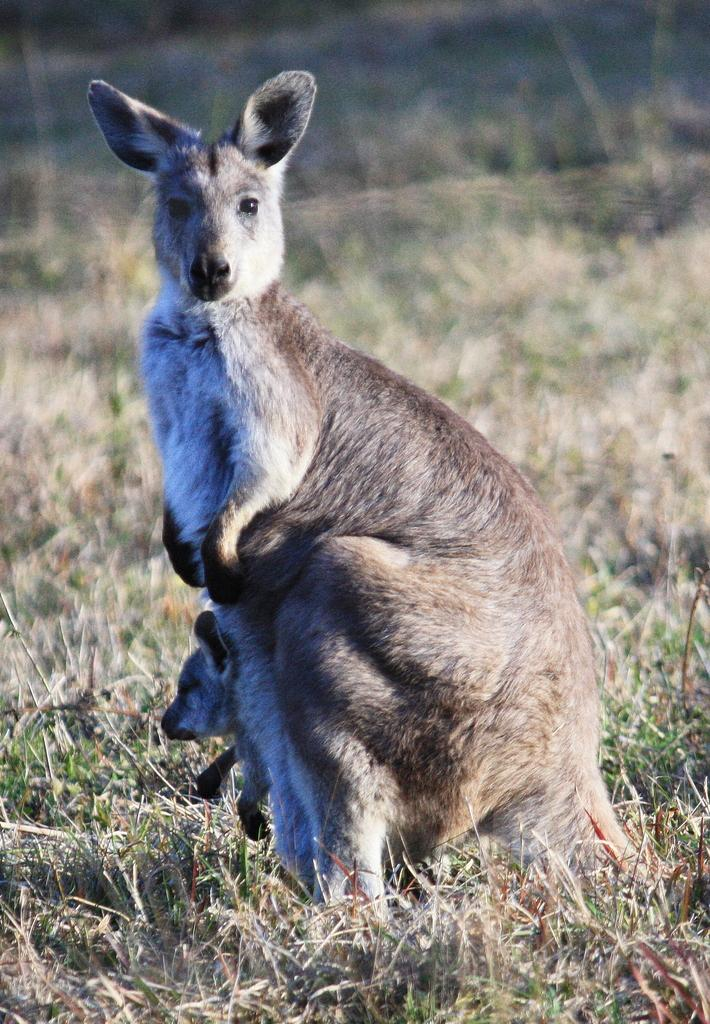kangaroo: (90, 63, 662, 944)
